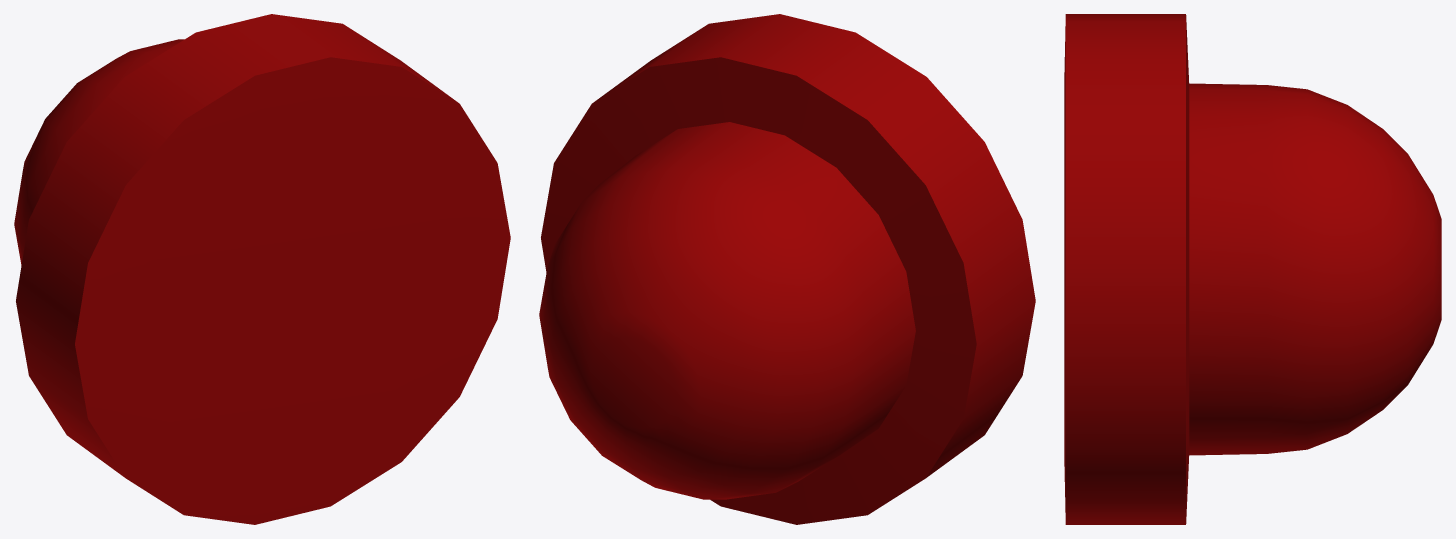
File: Box Modular_Diode.FBX
3 renders of one model, left to right at view 1: azimuth 30°, elevation 25°; view 2: azimuth 150°, elevation 25°; view 3: azimuth 270°, elevation 25°, orthographic.
Parts seen in each view (by area): view 1: Diode 001; view 2: Diode 001; view 3: Diode 001.
Part boxes in pixels (x1,y1,x2,y2): Diode 001: [14, 14, 510, 524]; Diode 001: [539, 14, 1035, 524]; Diode 001: [1064, 14, 1441, 524].
Bounding box in the file's own units: 6.54 × 6.44 × 4.82.
